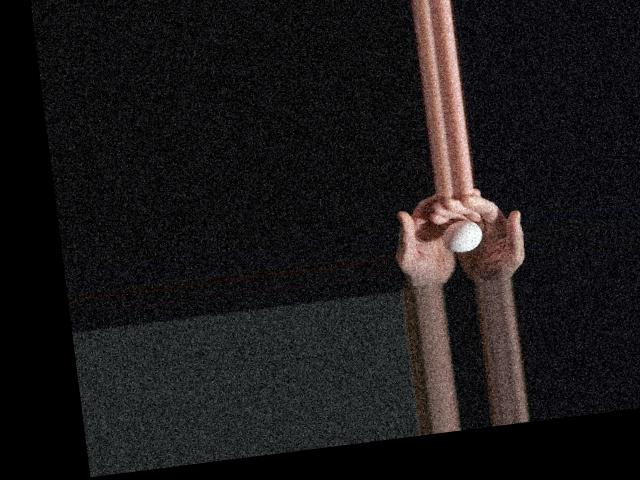egg: (440, 218, 484, 254)
